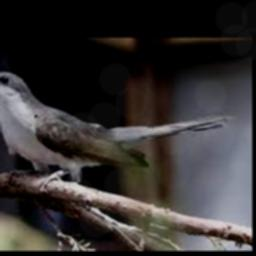Cuckoo: (0, 71, 236, 191)
